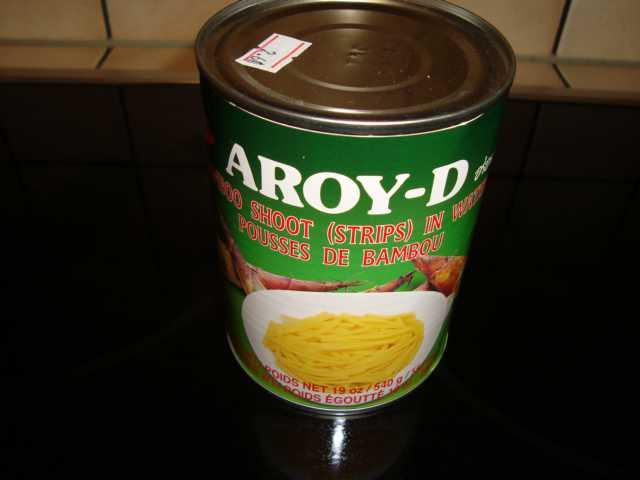metal: (196, 1, 516, 412)
